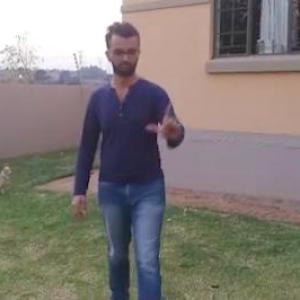land_hand: (147, 94, 194, 141)
